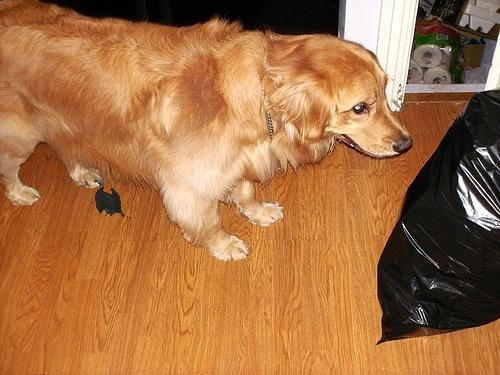tampered: (95, 181, 149, 219)
